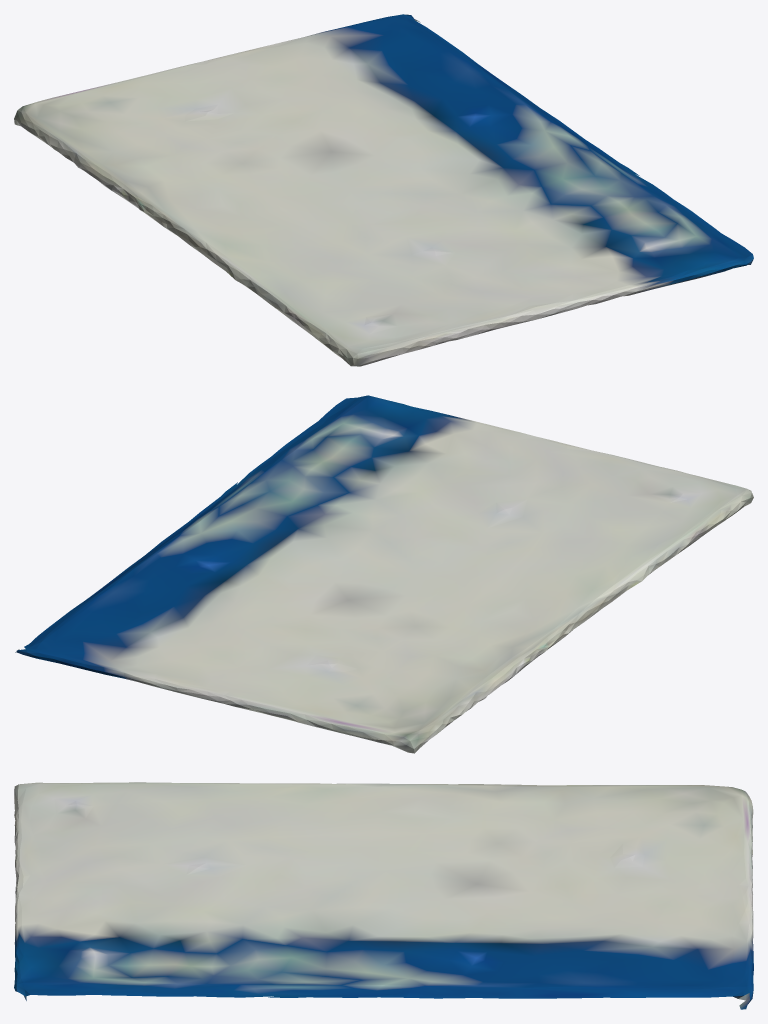
The model's file is scan.obj.
The picture shows the model from 3 angles, top to bottom: view 1: azimuth 30°, elevation 25°; view 2: azimuth 150°, elevation 25°; view 3: azimuth 270°, elevation 25°; orthographic projection. The views are drawn at different scales.
Visible parts, largest first — view 1: scan.ply; view 2: scan.ply; view 3: scan.ply.
Part boxes in pixels (x1,y1,x2,y2): scan.ply: (14, 14, 753, 366); scan.ply: (15, 395, 753, 753); scan.ply: (14, 782, 753, 1009).
Size of the model in its own units: 0.143 by 0.00673 by 0.2099.
